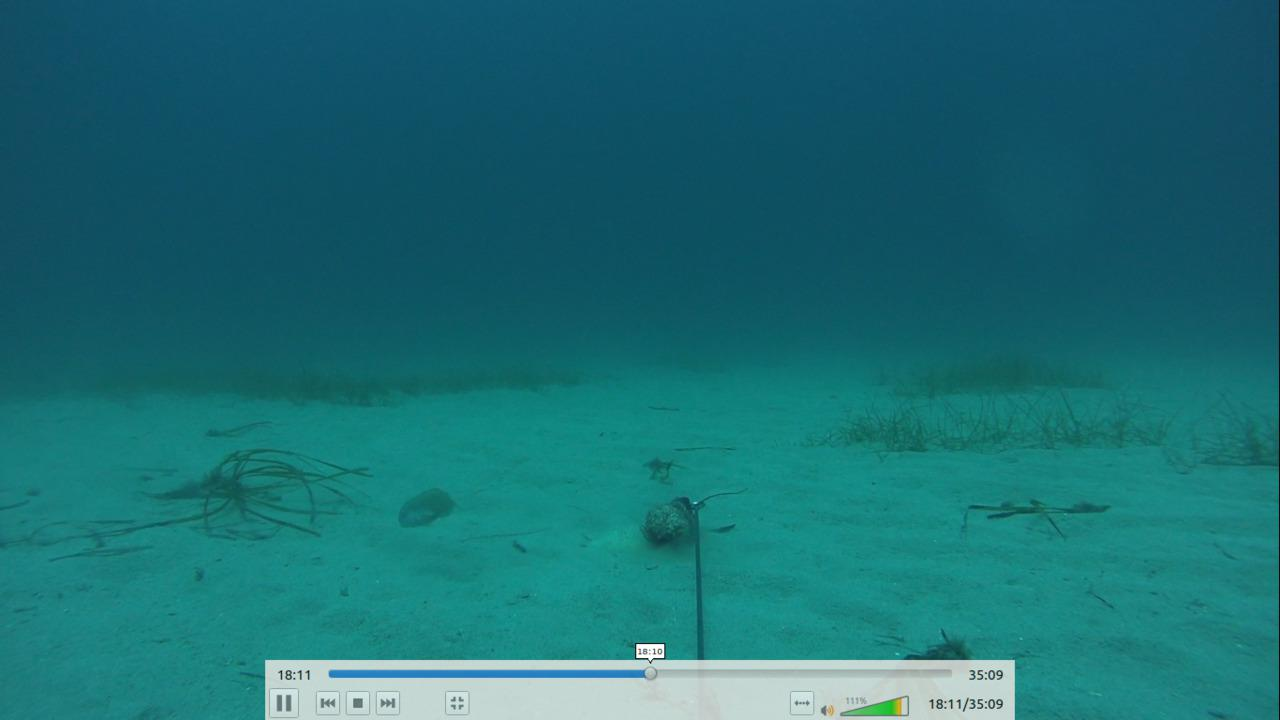raor: (393, 484, 459, 532)
